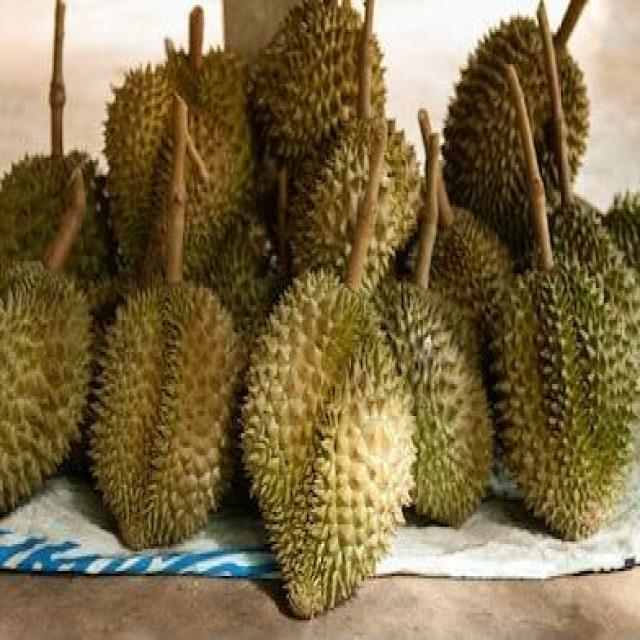mature: (241, 271, 416, 617), (91, 286, 242, 547)
